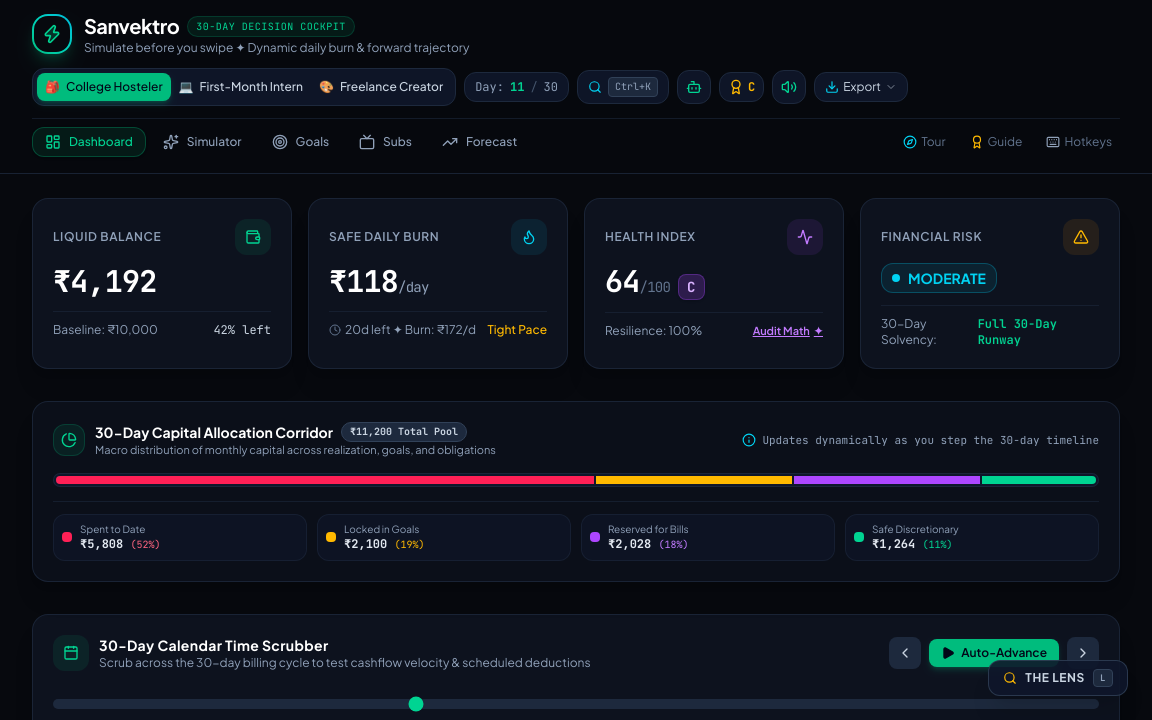
Test: Sanvektro Main Application › allows switching persona presets
Click the button "💻 First-Month Intern" at (241, 87), box [171,73,311,101]
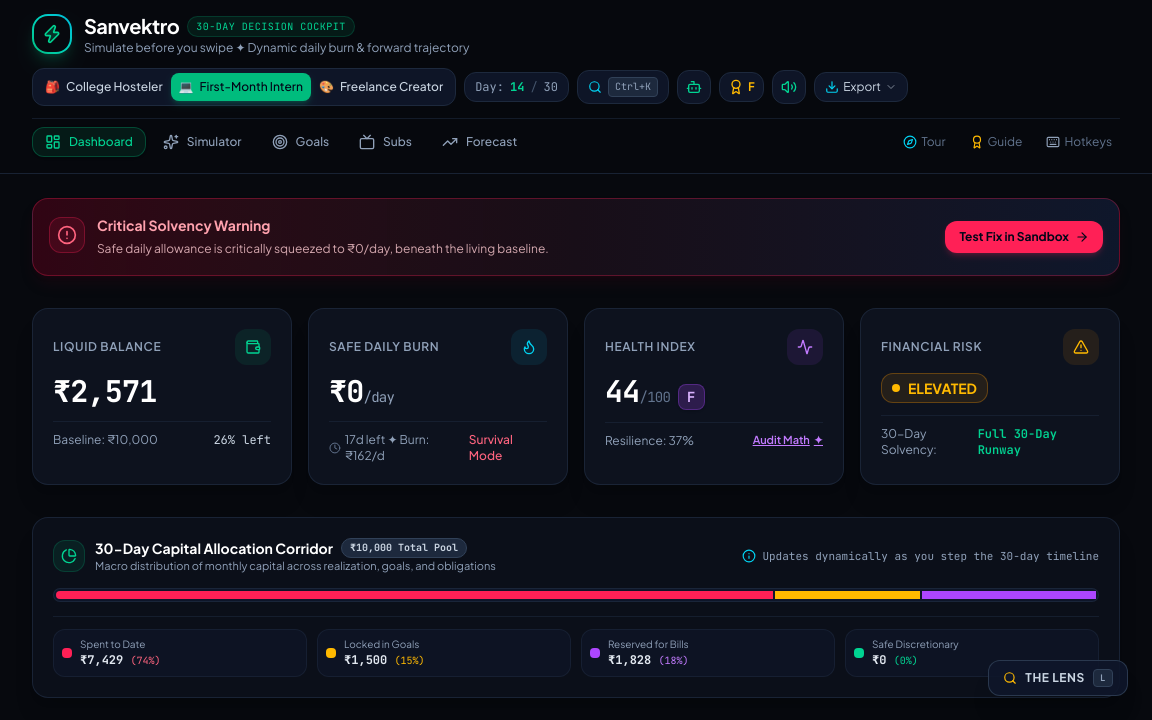
expect the text "14" is shown: met, box [510,79,524,95]
